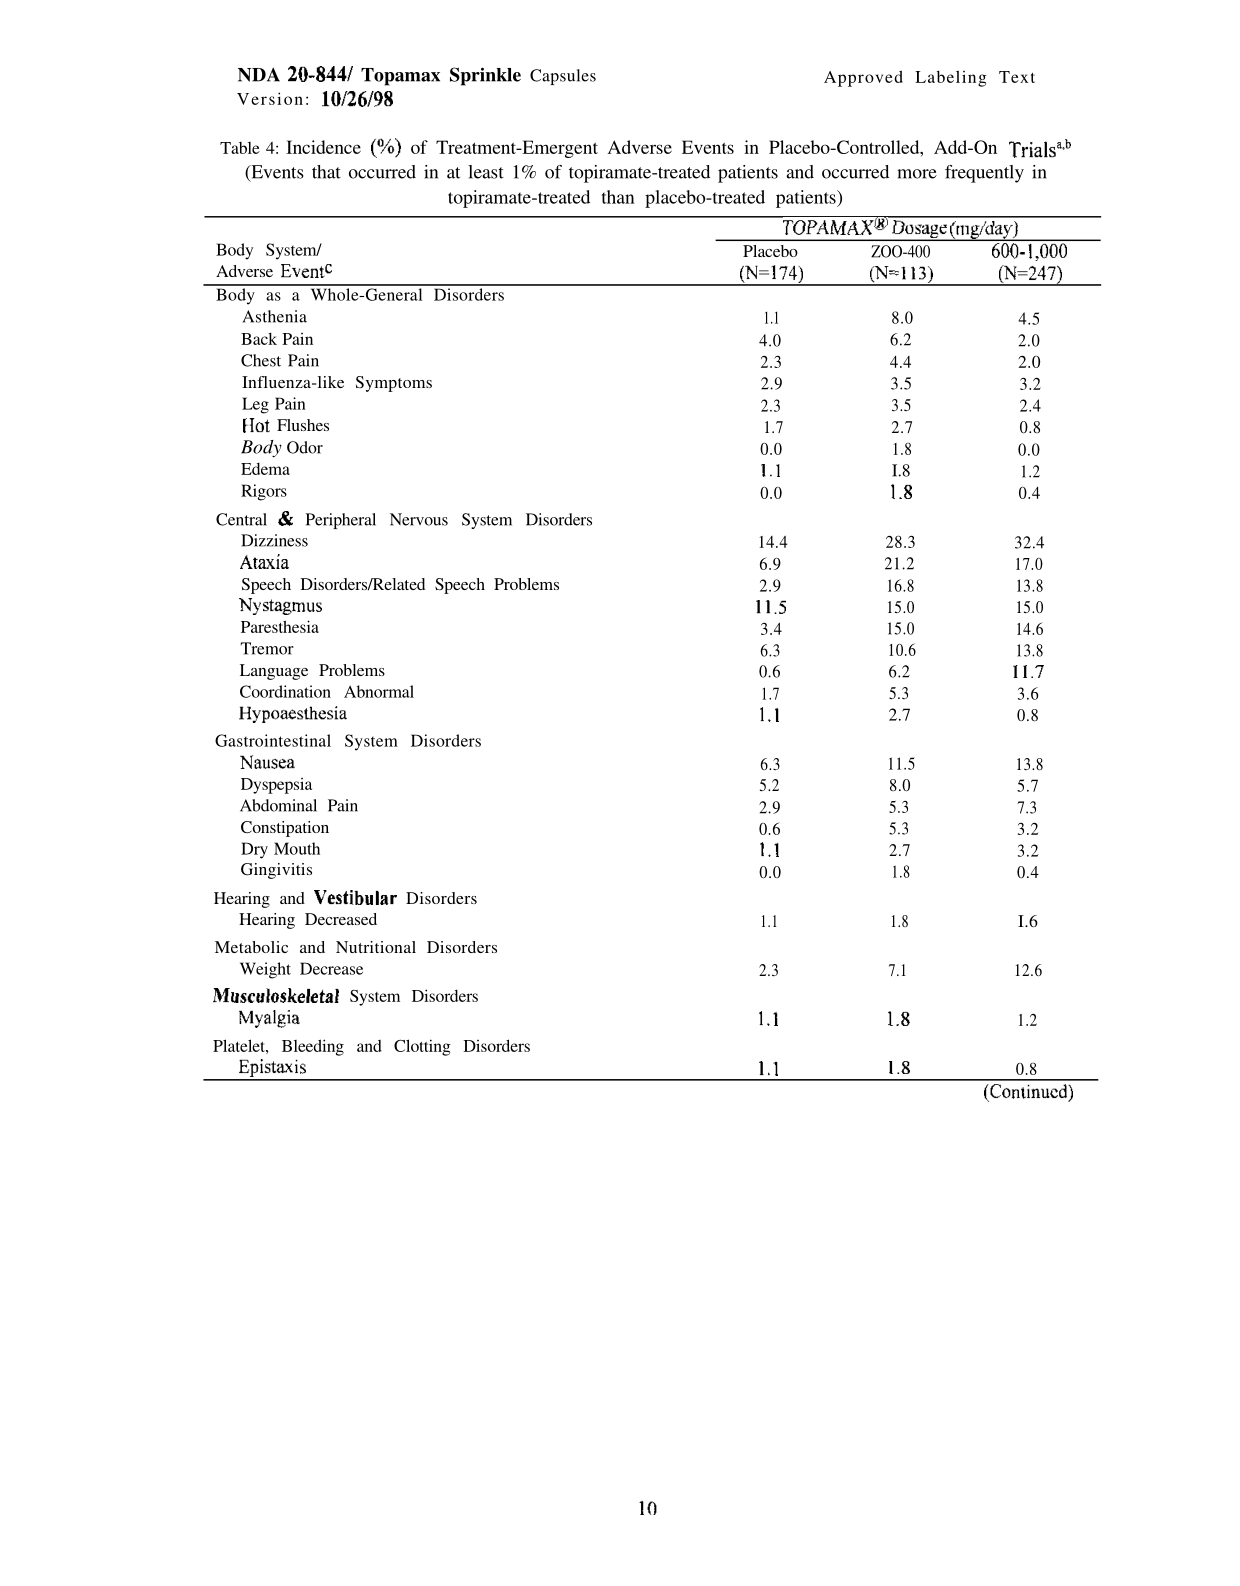partial_lined_merged_cells: (203, 214, 1104, 1084)
